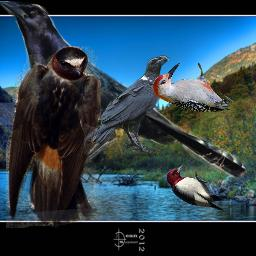Crow: (0, 1, 247, 192), (84, 54, 171, 154)
Swallow: (6, 46, 101, 228)
Woodpecker: (153, 63, 235, 113), (163, 162, 228, 211)
